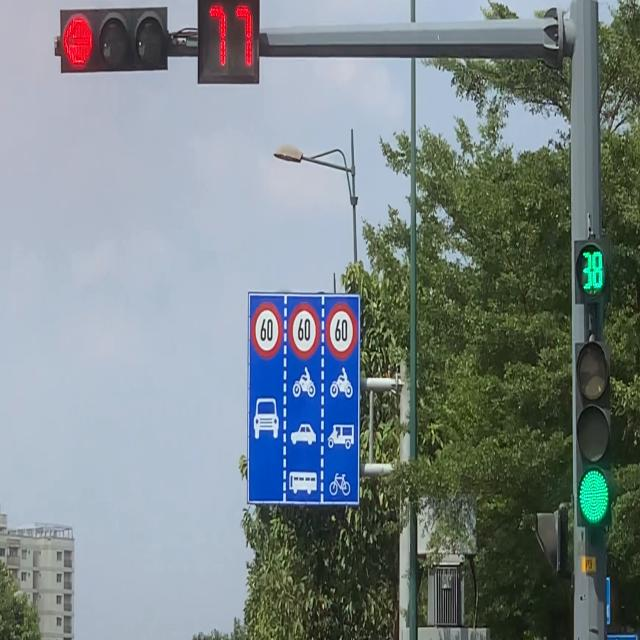Toc do toi da: (250, 301, 284, 360), (288, 302, 320, 360), (326, 302, 357, 360)
